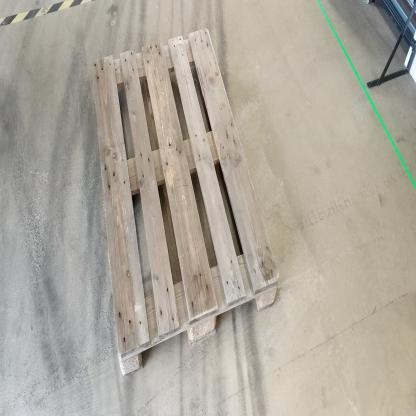BoxFace: (86, 22, 284, 388)
